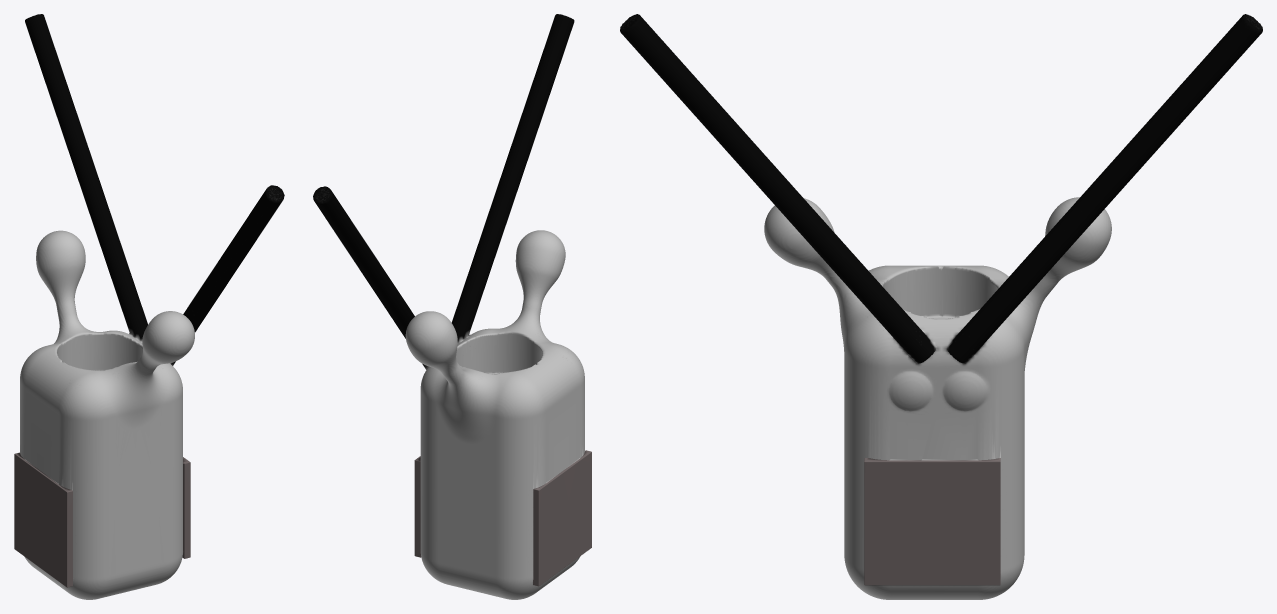
Rendered from robot.glb.
3 views of the same model, side by side, from view 1: azimuth 30°, elevation 25°; view 2: azimuth 150°, elevation 25°; view 3: azimuth 270°, elevation 25° (orthographic). The views are drawn at different scales.
Parts seen in each view (by area): view 1: Area (1); view 2: Area (1); view 3: Area (1).
Part boxes in pixels (x1,y1,x2,y2): Area (1): [14, 14, 284, 599]; Area (1): [313, 14, 591, 599]; Area (1): [620, 14, 1262, 599].
Size of the model in its own units: 43.59 by 152 by 149.
Materials: 1 (1 with a texture image).
